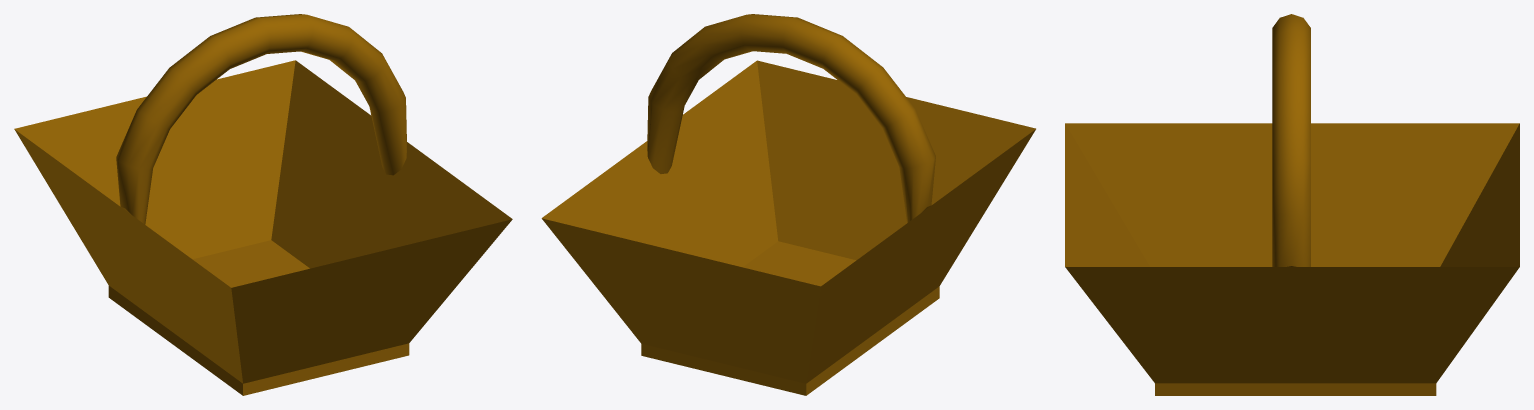
The model's file is basket.glb.
The picture shows the model from 3 angles, left to right: view 1: azimuth 30°, elevation 25°; view 2: azimuth 150°, elevation 25°; view 3: azimuth 270°, elevation 25°; orthographic projection. The views are drawn at different scales.
Visible parts, largest first — view 1: Cylinder001; view 2: Cylinder001; view 3: Cylinder001.
Part boxes in pixels (bbox=[...]): Cylinder001: bbox=[14, 14, 512, 395]; Cylinder001: bbox=[541, 14, 1035, 395]; Cylinder001: bbox=[1065, 14, 1519, 395].
Bounding box in the file's own units: 0.6887 × 0.7125 × 0.9063.
